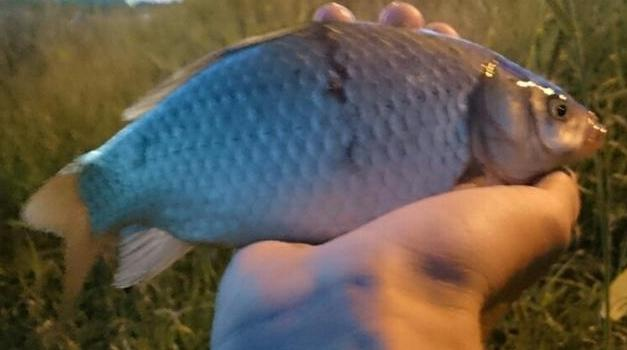Grass Carp: (25, 20, 609, 291)
